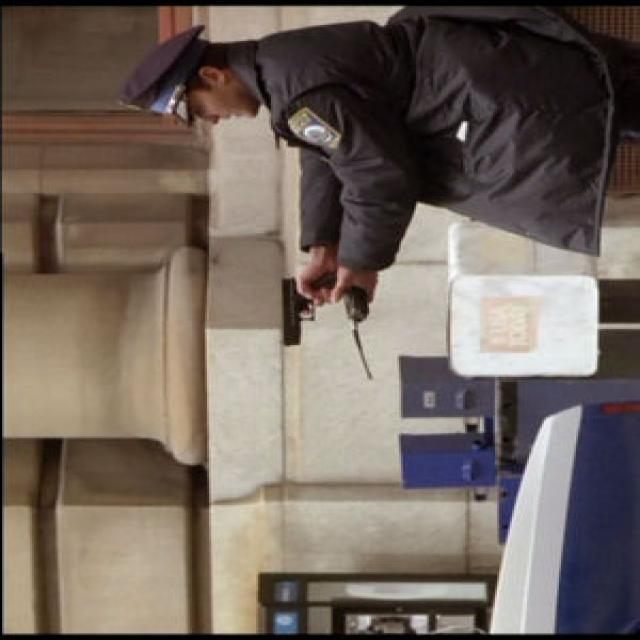weapons: (262, 260, 340, 352)
